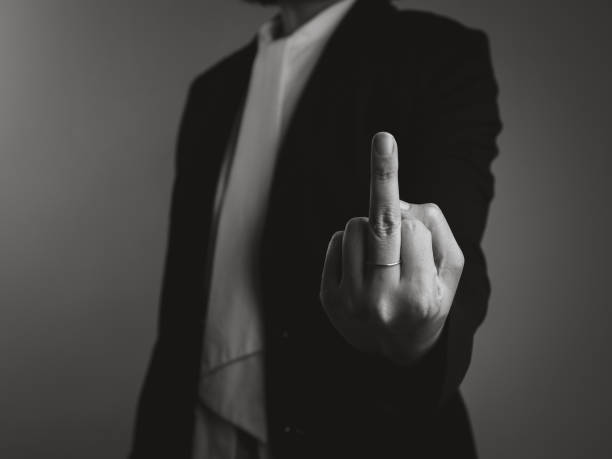insulting_gesture: (320, 131, 462, 359)
